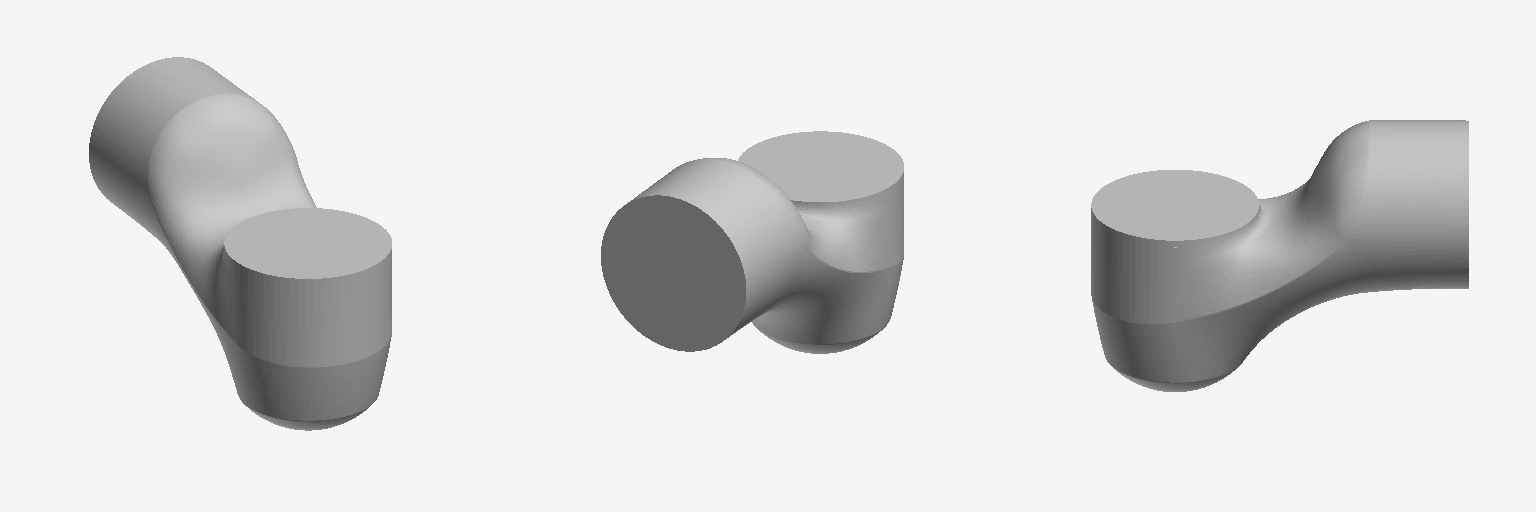
The picture shows the model from 3 angles: view 1: azimuth 30°, elevation 25°; view 2: azimuth 150°, elevation 25°; view 3: azimuth 270°, elevation 25°; orthographic projection.
Visible parts, largest first — view 1: Part__Feature_001-mesh; view 2: Part__Feature_001-mesh; view 3: Part__Feature_001-mesh.
Boxes of the visible parts, box(x1,y1,x2,y2) form: Part__Feature_001-mesh: box(89, 57, 391, 430); Part__Feature_001-mesh: box(601, 131, 903, 353); Part__Feature_001-mesh: box(1091, 120, 1468, 391).
Size of the model in its own units: 0.11 by 0.1844 by 0.247.